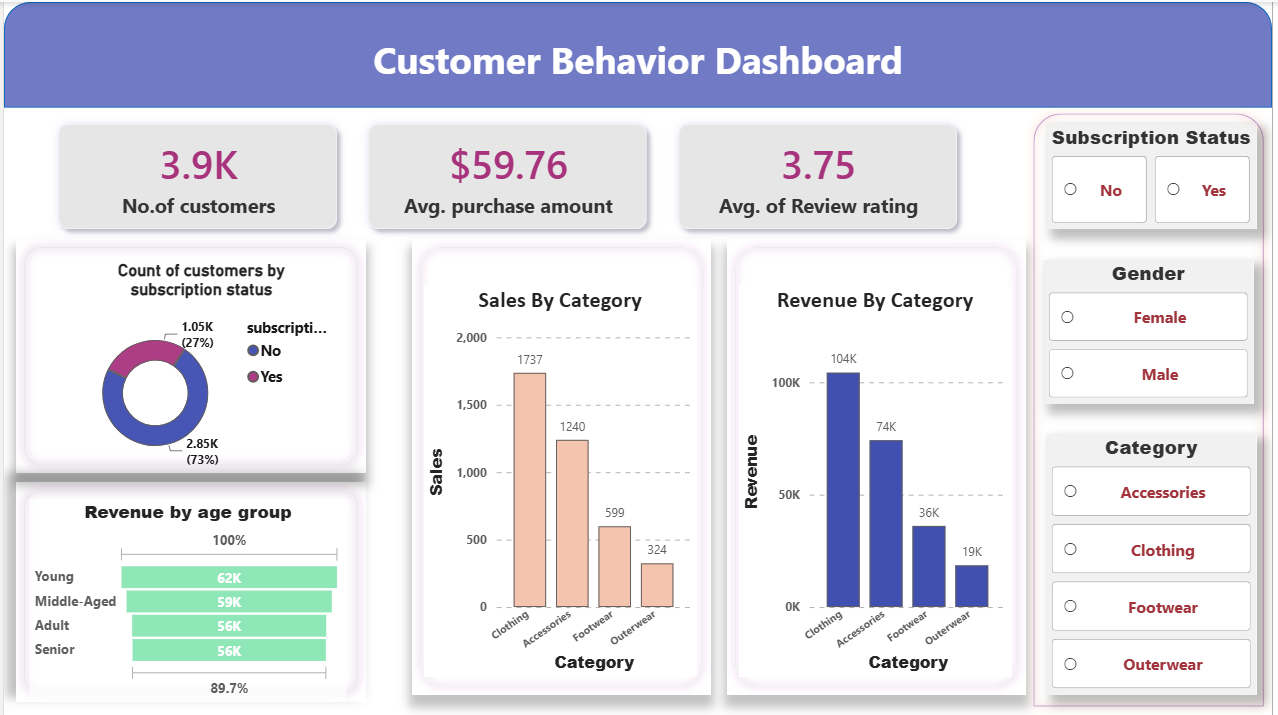

This screenshot's page, from the dashboard's own definition file:
{"tool":"powerbi","page":{"name":"Page 1","canvas":[1280,720],"ordinal":0},"visuals":[{"type":"cardVisual","fields":{"Data":["public customer_behavior.No.of customers","public customer_behavior.Avg. purchase amount","public customer_behavior.Avg. of Review rating"]},"box":[25,93.3,967.6,164.7],"z":0},{"type":"shape","box":[0,0,1280,106.7],"z":1000},{"type":"textbox","box":[0,8.3,1280,88.3],"z":2000},{"type":"donutChart","title":"Count of customers by subscription status","fields":{"Category":["public customer_behavior.subscription_status"],"Y":["CountNonNull(public customer_behavior.customer_id)"]},"box":[55,260,289.7,216.2],"z":3000},{"type":"shape","box":[11.7,240,353.3,236.7],"z":4000},{"type":"shape","box":[411.7,240,301.7,460],"z":5000},{"type":"shape","box":[730,240,301.7,460],"z":6000},{"type":"clusteredColumnChart","title":"Revenue By Category","fields":{"Y":["Sum(public customer_behavior.purchase_amount)"],"Category":["public customer_behavior.category"]},"box":[741.7,286.7,275,395.6],"z":7000},{"type":"clusteredColumnChart","title":"Sales By Category","fields":{"Y":["CountNonNull(public customer_behavior.customer_id)"],"Category":["public customer_behavior.category"]},"box":[423.3,286.7,275,395.6],"z":8000},{"type":"shape","box":[1031.7,105,248.5,614.7],"z":9000},{"type":"advancedSlicerVisual","title":"Subscription Status","fields":{"Values":["public customer_behavior.subscription_status"]},"box":[1051.7,123.3,211.7,106.7],"z":10000},{"type":"advancedSlicerVisual","title":"Gender","fields":{"Values":["public customer_behavior.gender"]},"box":[1050,260,211.7,145],"z":11000},{"type":"advancedSlicerVisual","title":"Category","fields":{"Values":["public customer_behavior.category"]},"box":[1051.7,436.7,211.7,263.3],"z":12000},{"type":"shape","box":[11.7,485,353.3,221.7],"z":13000},{"type":"funnel","title":"Revenue by age group","fields":{"Y":["Sum(public customer_behavior.purchase_amount)"],"Category":["public customer_behavior.age_group"]},"box":[25,501.7,320,205],"z":14000}]}

Visuals, with their boxes in screenshot pixels (x1, y1, x2, y2), scaled from the page's 1280x720 canvas onto the 1278x715 screenshot:
cardVisual - public customer_behavior.No.of customers x public customer_behavior.Avg. purchase amount: box=[25, 93, 991, 256]
shape: box=[0, 0, 1277, 106]
textbox: box=[0, 8, 1277, 96]
"Count of customers by subscription status" donutChart: box=[55, 258, 344, 473]
shape: box=[12, 238, 364, 473]
shape: box=[411, 238, 712, 695]
shape: box=[729, 238, 1030, 695]
"Revenue By Category" clusteredColumnChart: box=[741, 285, 1015, 678]
"Sales By Category" clusteredColumnChart: box=[423, 285, 697, 678]
shape: box=[1030, 104, 1277, 714]
"Subscription Status" advancedSlicerVisual: box=[1050, 122, 1261, 228]
"Gender" advancedSlicerVisual: box=[1048, 258, 1260, 402]
"Category" advancedSlicerVisual: box=[1050, 434, 1261, 695]
shape: box=[12, 482, 364, 702]
"Revenue by age group" funnel: box=[25, 498, 344, 702]
